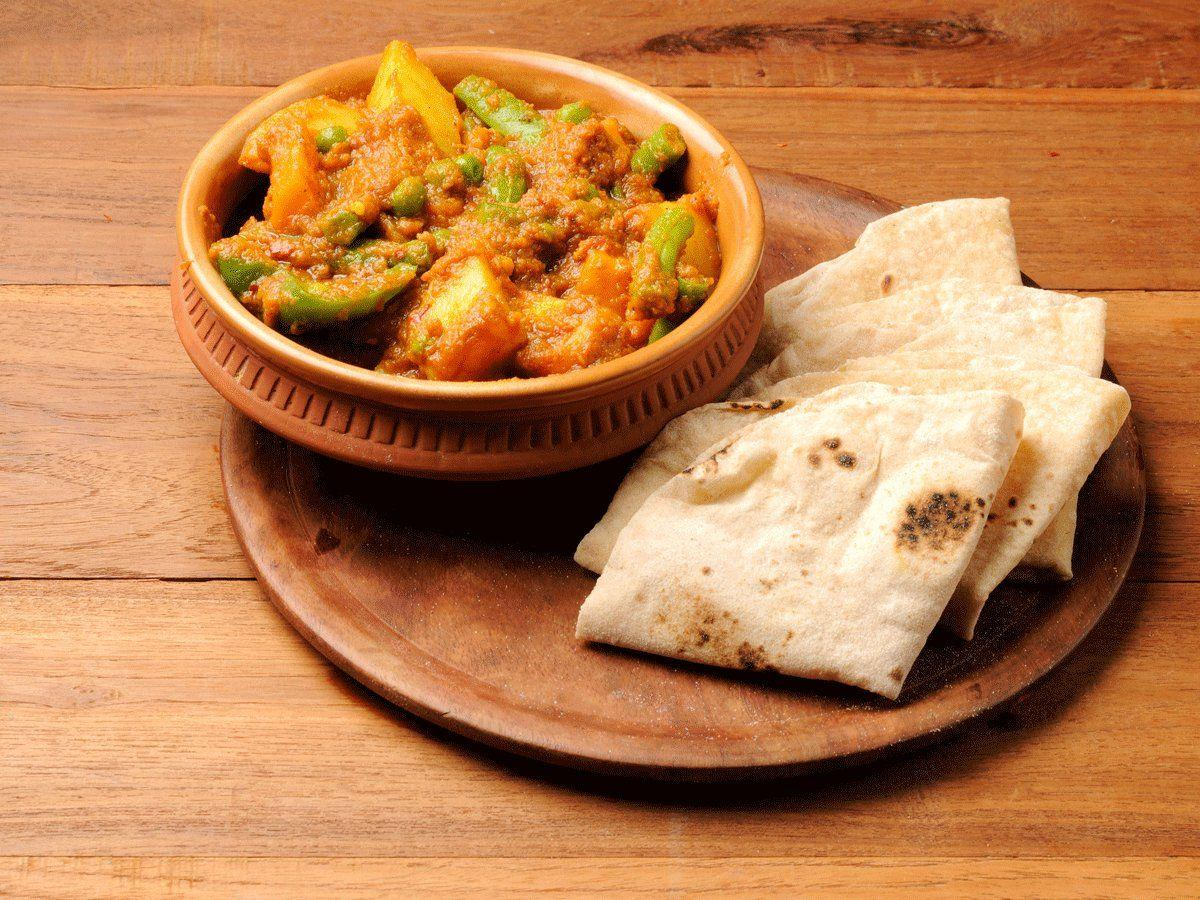chapati: (579, 197, 1130, 638), (577, 384, 1022, 698)
